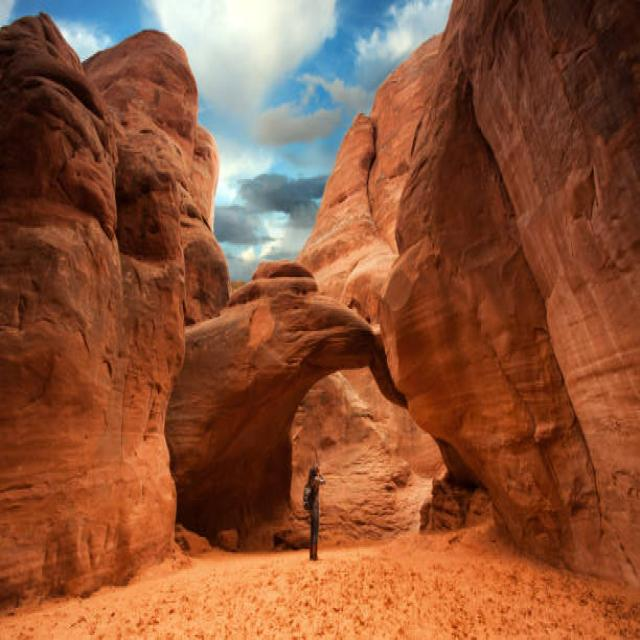Sedimentary: (330, 2, 640, 574), (1, 3, 230, 598), (182, 287, 448, 559)
